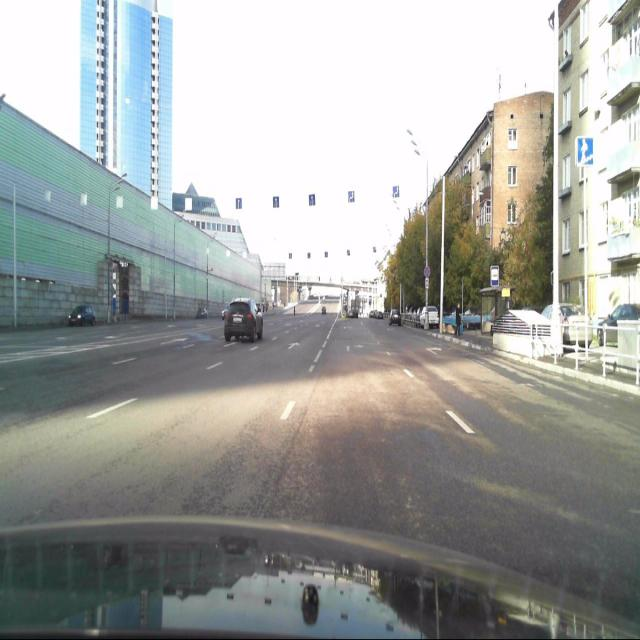road sign: (576, 136, 592, 164), (490, 264, 499, 287)
